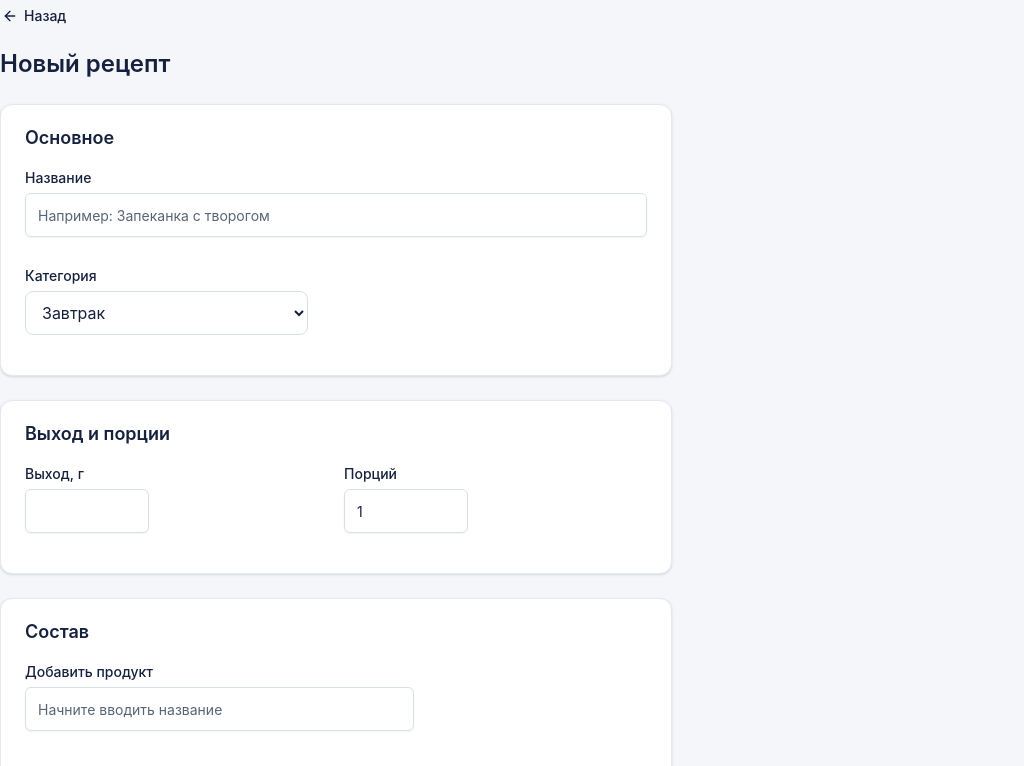
Test: показатели в форме рецепта › удалённый продукт останавливает расчёт и называет причину
Type "масло" into the dropdown labelled "Добавить продукт" at (219, 709), box left=25, top=687, right=414, bottom=731
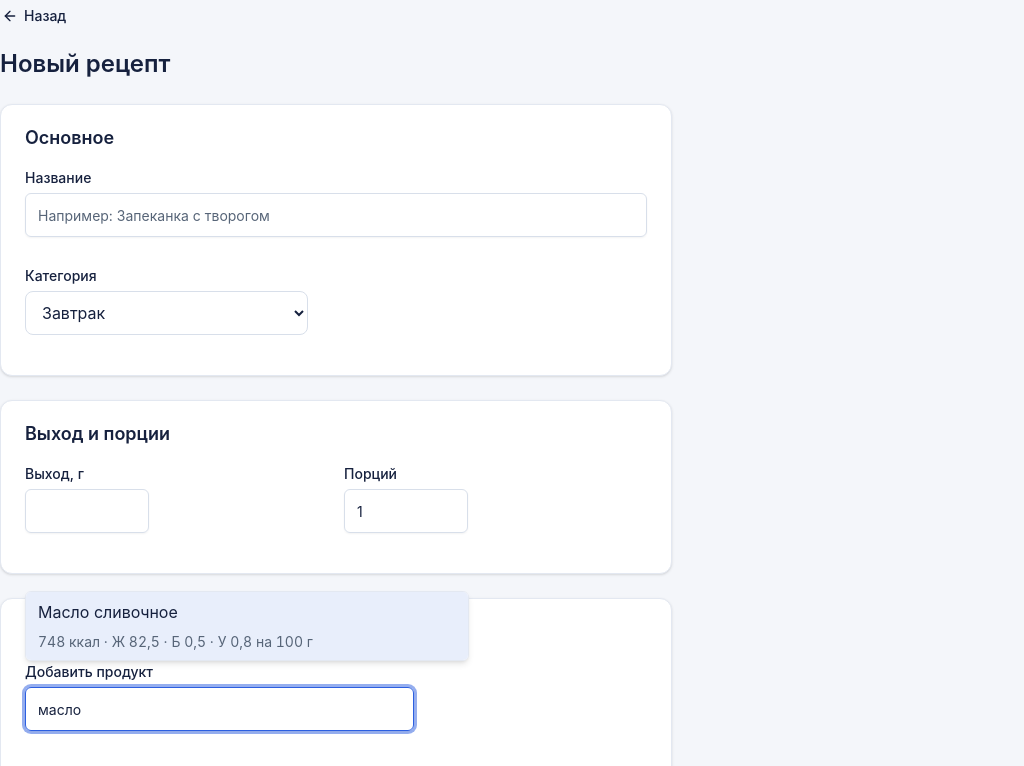
Click the option "Масло сливочное 748 ккал · Ж 82,5 · Б 0,5 · У 0,8 на 100 г" at (108, 612), box left=26, top=592, right=468, bottom=660
(page scrolled)
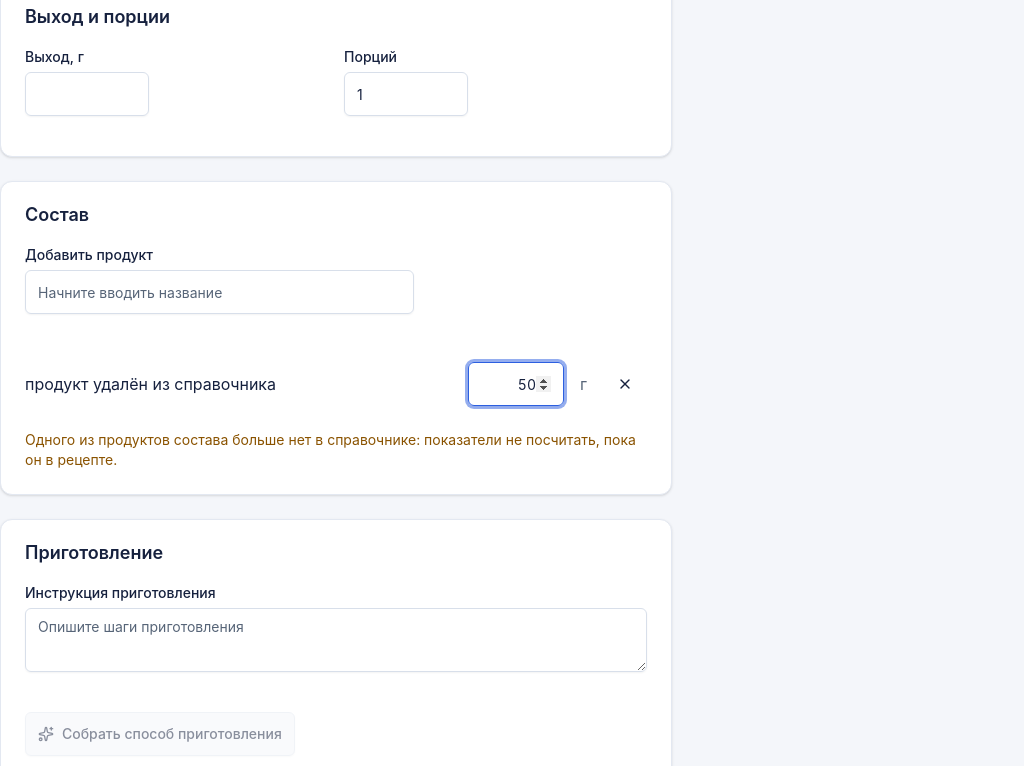
Check: the text "больше нет в справочнике" is shown, box left=25, top=431, right=636, bottom=468
